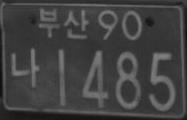0: (121, 9, 143, 41)
1: (48, 48, 75, 106)
4: (80, 49, 108, 109)
5: (148, 51, 176, 112)
8: (114, 49, 142, 111)
9: (97, 9, 119, 40)
나: (10, 47, 39, 89)
부산_O: (38, 7, 89, 40)
